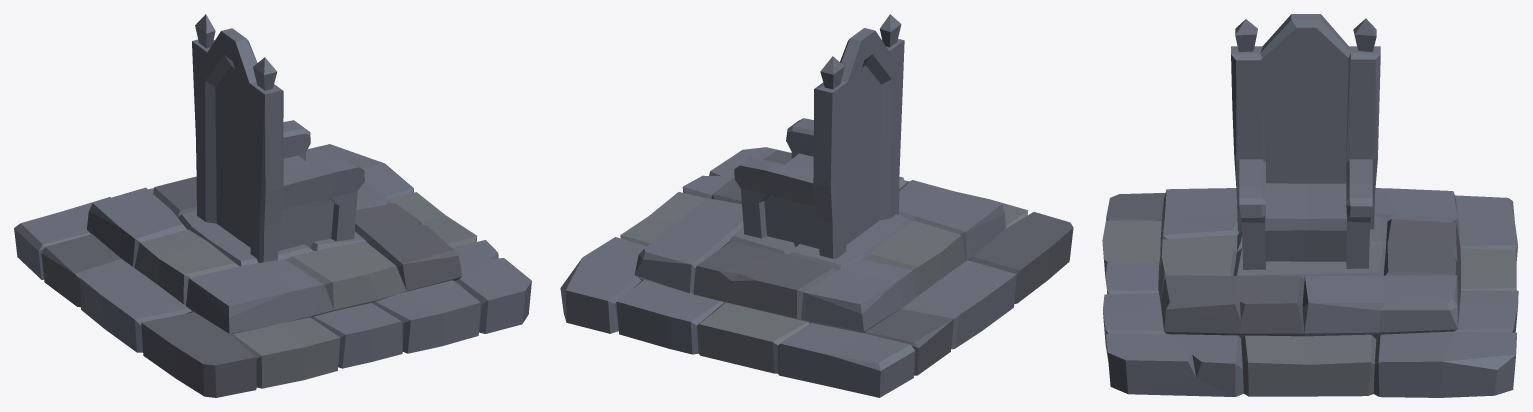
File: Throne.gltf
The picture shows the model from 3 angles, left to right: view 1: azimuth 30°, elevation 25°; view 2: azimuth 150°, elevation 25°; view 3: azimuth 270°, elevation 25°; orthographic projection. The views are drawn at different scales.
Visible parts, largest first — view 1: Throne2; view 2: Throne2; view 3: Throne2.
Part boxes in pixels (x1,y1,x2,y2): Throne2: [14, 14, 531, 397]; Throne2: [560, 14, 1073, 397]; Throne2: [1102, 14, 1518, 397].
Bounding box in the file's own units: 0.7709 × 0.5691 × 0.7851.
1 material, 1 textured.
